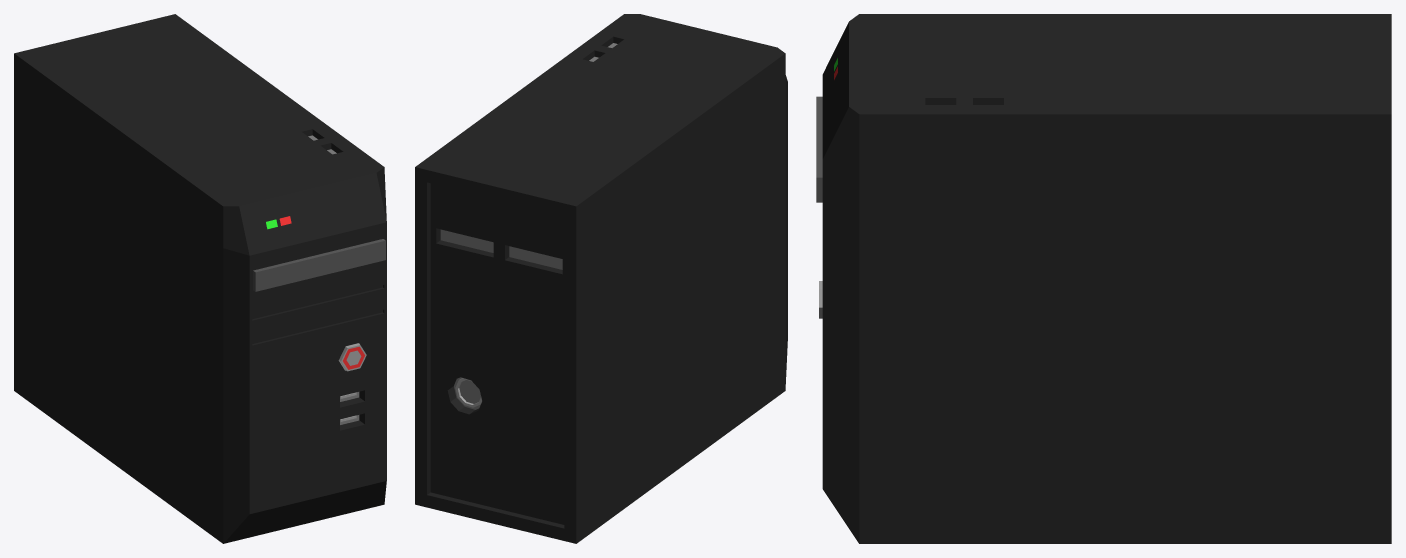
File: Int_TechComputer01.fbx
3 renders of one model, left to right at view 1: azimuth 30°, elevation 25°; view 2: azimuth 150°, elevation 25°; view 3: azimuth 270°, elevation 25°, orthographic. The views are drawn at different scales.
Parts seen in each view (by area): view 1: Int_TechComputer01; view 2: Int_TechComputer01; view 3: Int_TechComputer01.
Part boxes in pixels (bbox=[...]): Int_TechComputer01: bbox=[14, 14, 386, 543]; Int_TechComputer01: bbox=[415, 14, 787, 543]; Int_TechComputer01: bbox=[816, 14, 1391, 543].
Size of what is drawn, in the model's own units: 30.08 by 73.01 by 60.17.
